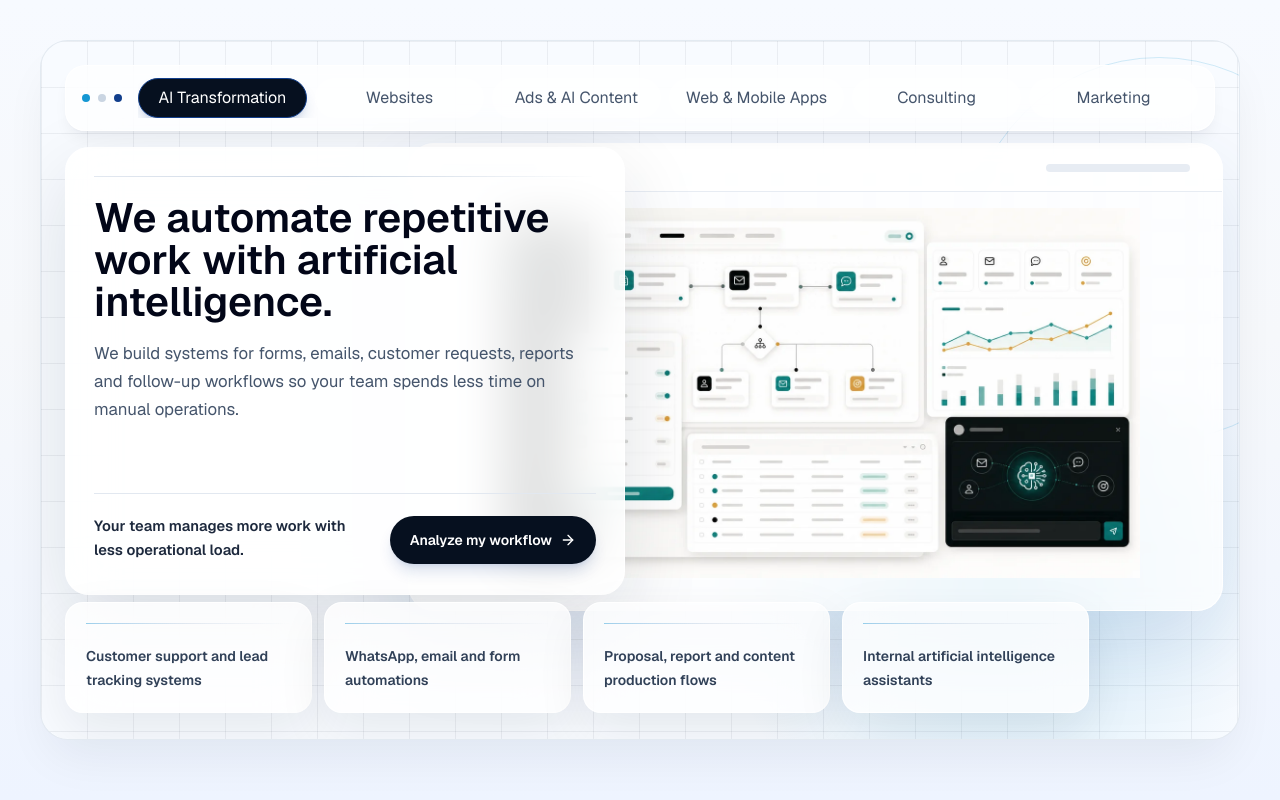
Scenario: ServicesTabs › switches the active service panel
Expected: the heading "We automate repetitive work with artificial intelligence." is shown, [94,197,596,323]
What coordinates should you click on to do the following:
click the button "Websites"
I would click on:
 (399, 98)
Its box is [315,78,484,118].
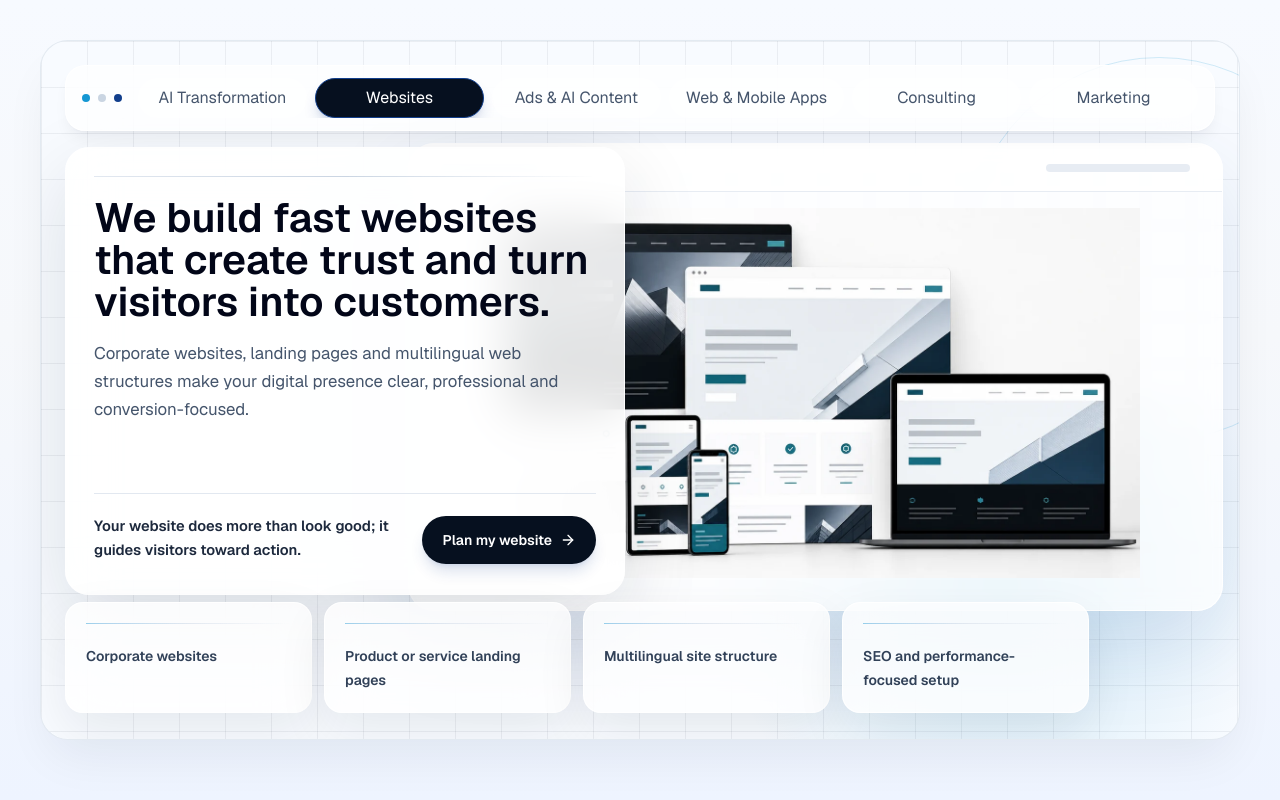
Now the heading "We build fast websites that create trust and turn visitors into customers." is shown, box [94,197,596,323]
What coordinates should you click on to do the following:
click the button "Marketing"
I would click on:
 (1113, 98)
Its box is [1029,78,1198,118].
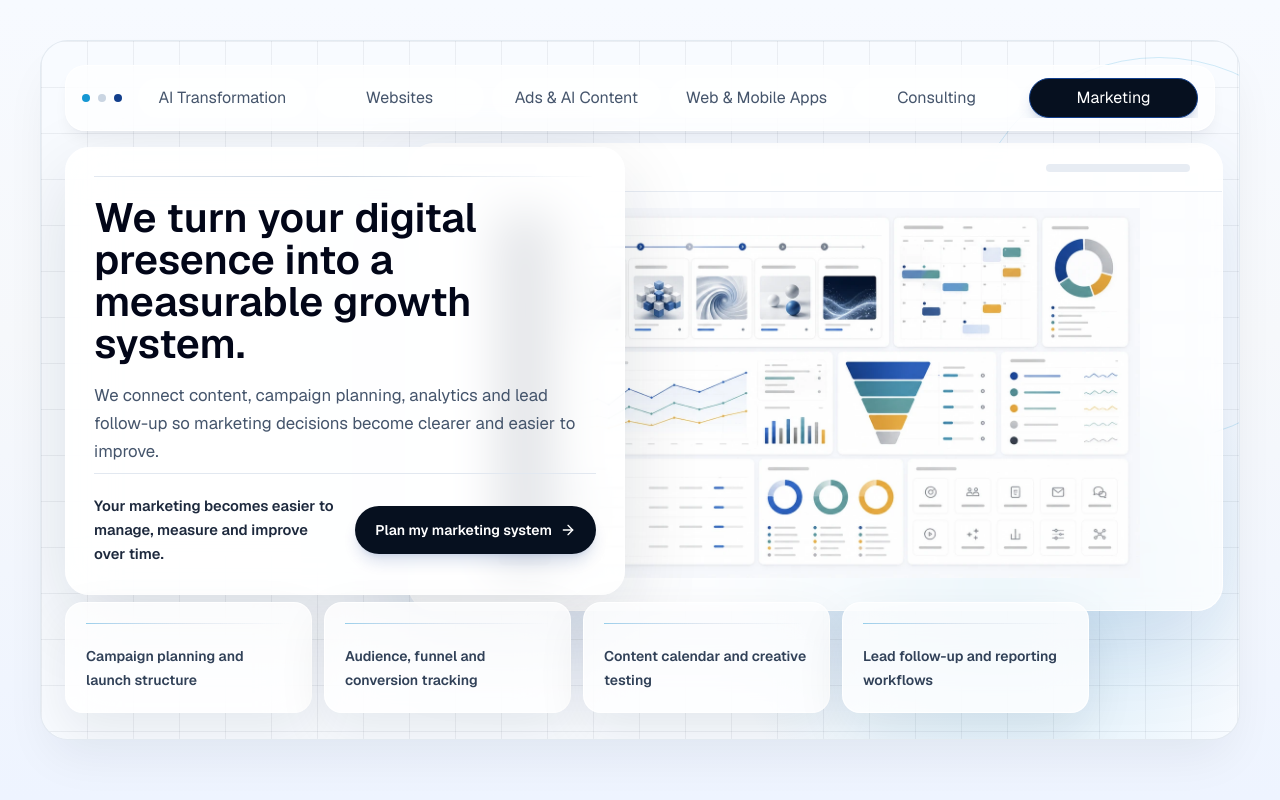
Now the heading "We turn your digital presence into a measurable growth system." is shown, box [94,191,477,370]
